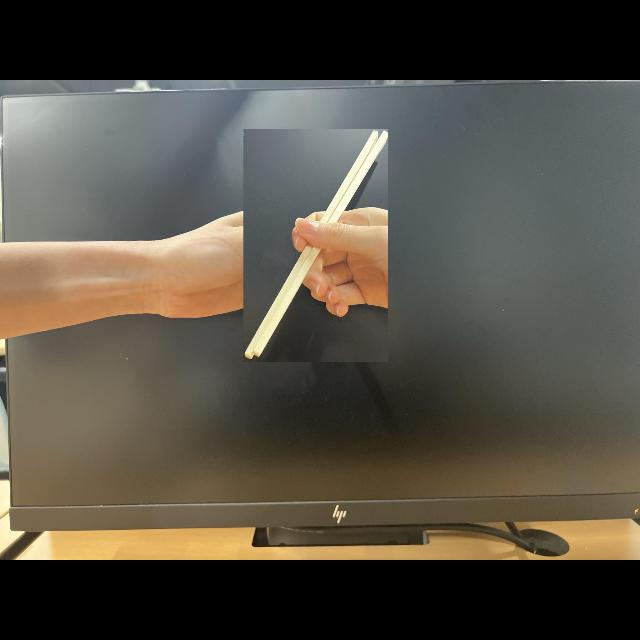stick: (244, 128, 388, 362)
